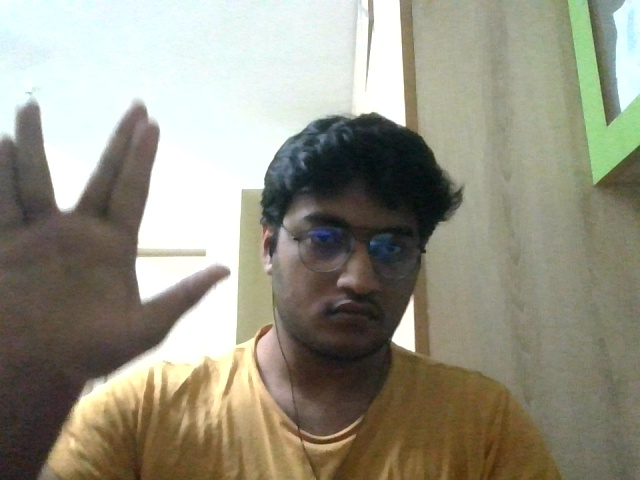livelong: (1, 97, 230, 380)
